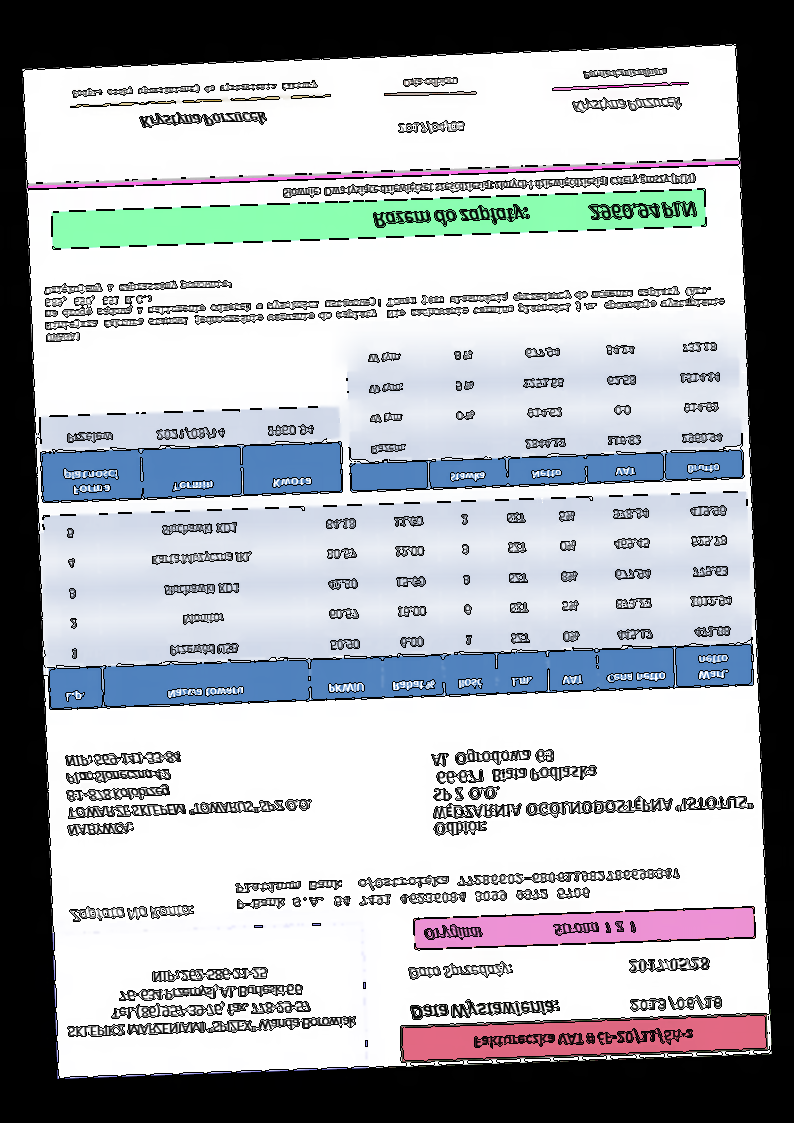Table: (41, 489, 755, 710), (344, 327, 746, 492), (37, 405, 343, 503)
TextBox: (41, 258, 727, 345), (430, 738, 757, 837), (63, 961, 358, 1044), (61, 743, 316, 838), (232, 863, 684, 913), (280, 170, 697, 201), (370, 198, 698, 231), (472, 1025, 696, 1052), (70, 77, 318, 101), (424, 918, 641, 944), (409, 996, 562, 1023), (67, 900, 198, 924), (138, 106, 269, 130), (570, 93, 684, 116), (407, 960, 514, 981), (628, 992, 723, 1014), (395, 116, 467, 140), (628, 955, 709, 974), (582, 65, 670, 81), (402, 74, 461, 91)
